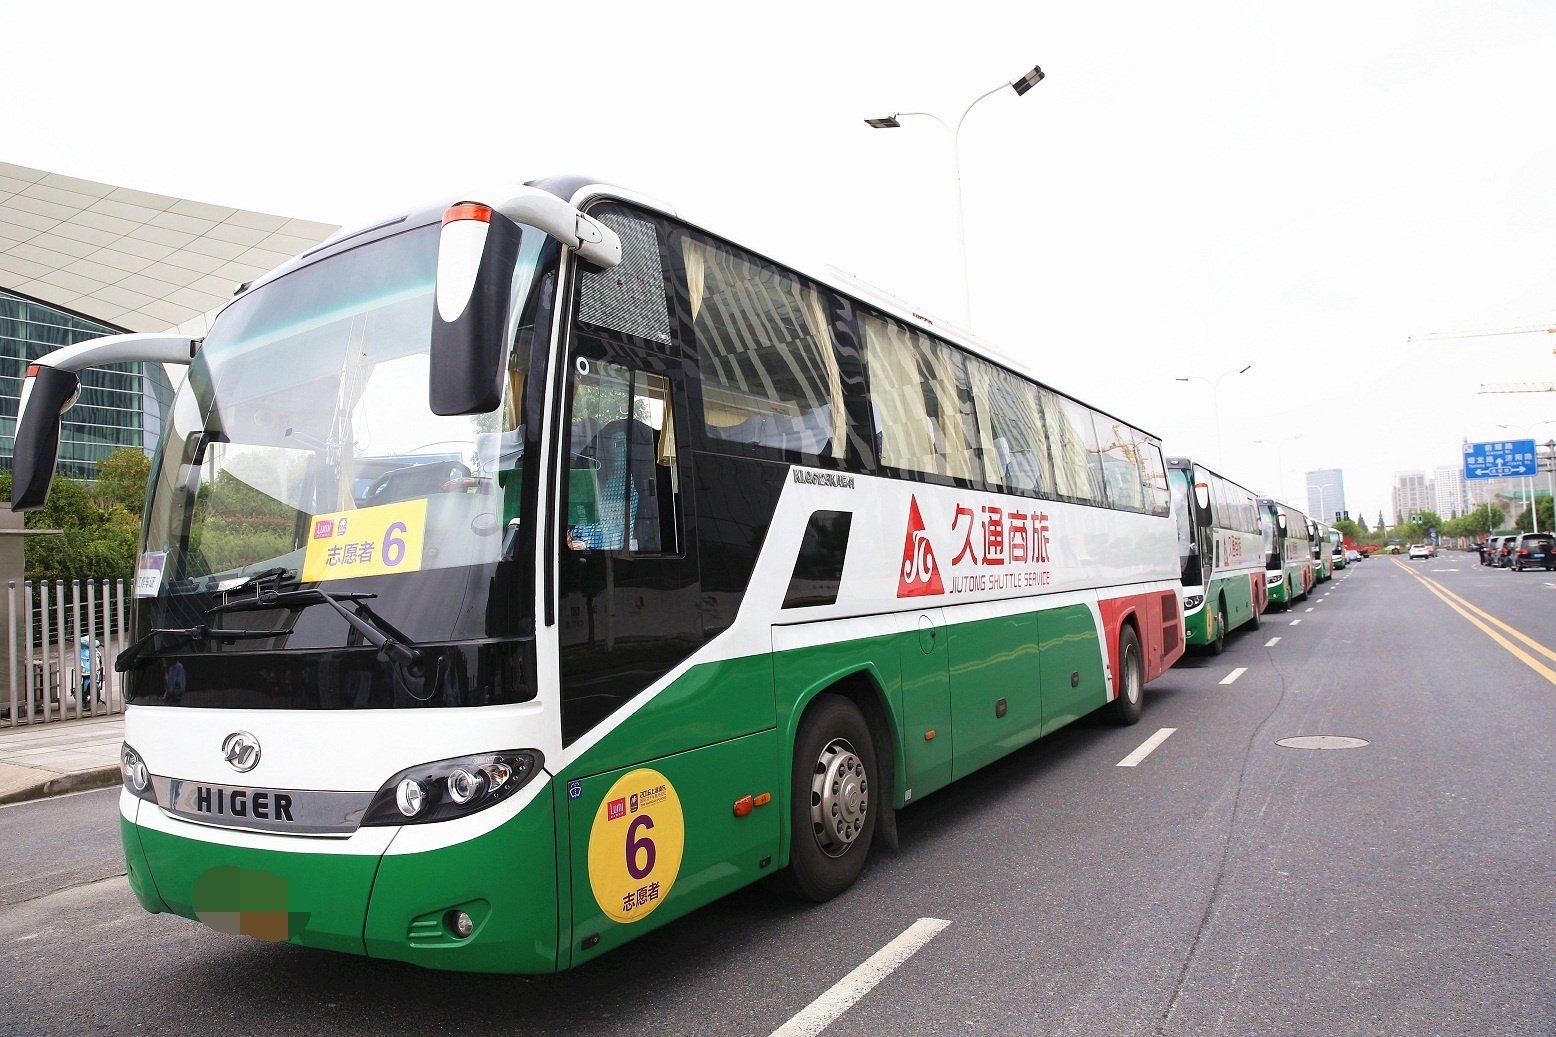bus: (89, 187, 1177, 972)
